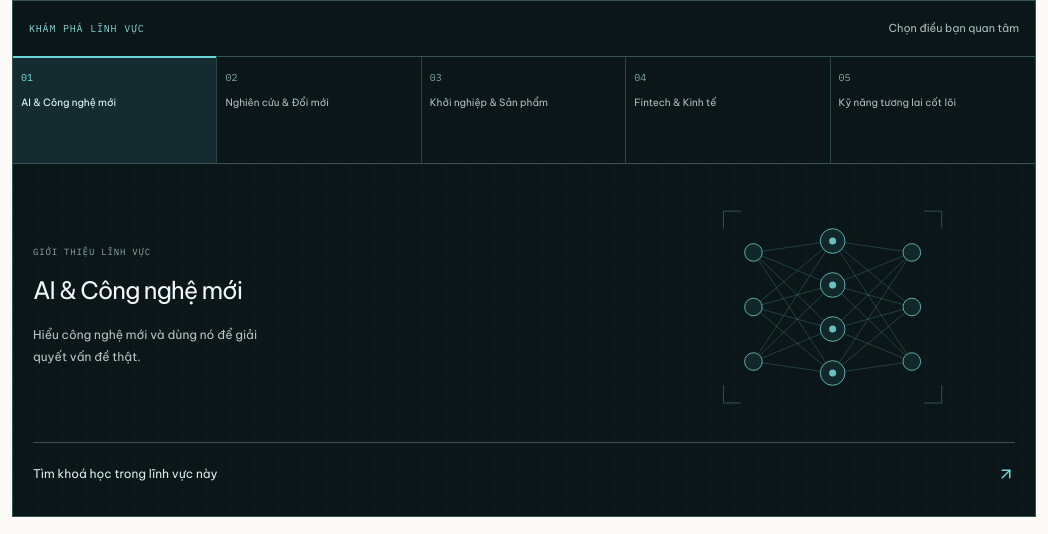
Academy field explorer › selects all five canonical fields without navigating in vi
Click the button "01 AI & Công nghệ mới".
click(115, 110)  # box [13,57,217,164]
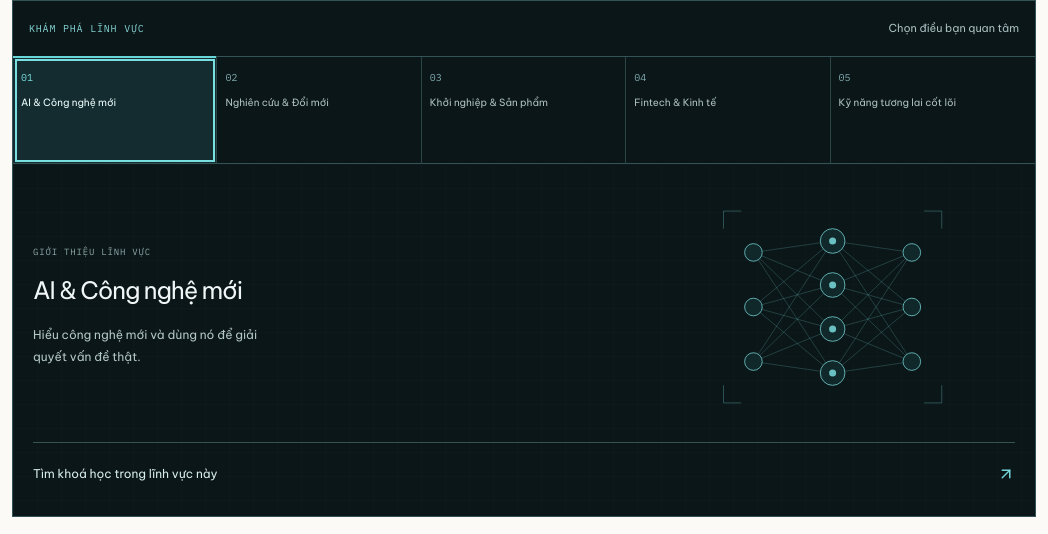
Expected: the heading "AI & Công nghệ mới" is shown, [33,275,242,305]
Expected: the text "Hiểu công nghệ mới và dùng nó để giải quyết vấn đề thật." is shown, [33,324,284,368]
Click the button "02 Nghiên cứu & Đổi mới".
click(320, 110)  # box [217,57,422,164]
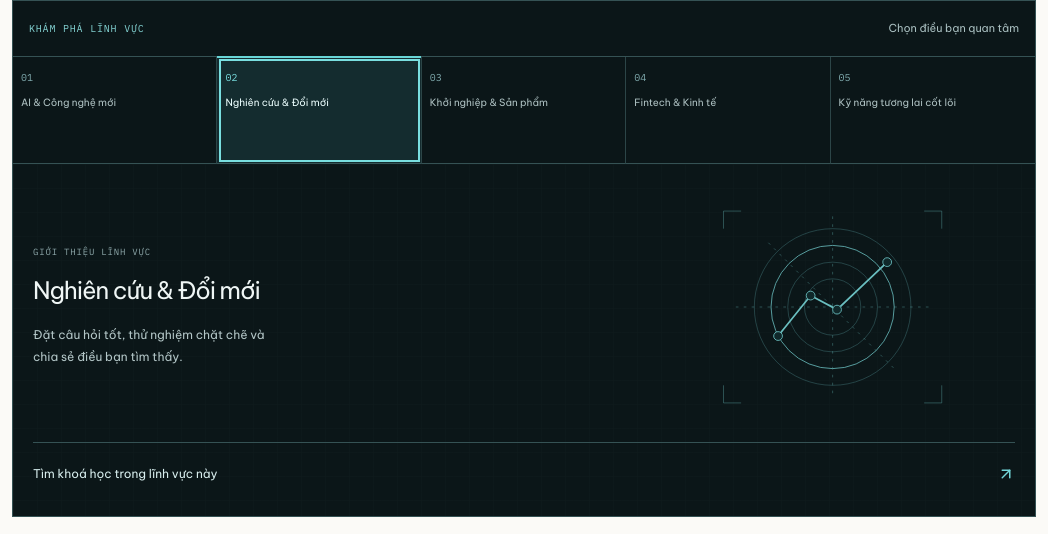
Expected: the heading "Nghiên cứu & Đổi mới" is shown, [33,275,260,305]
Expected: the text "Đặt câu hỏi tốt, thử nghiệm chặt chẽ và chia sẻ điều bạn tìm thấy." is shown, [33,324,284,368]
Click the button "03 Khởi nghiệp & Sản phẩm".
click(524, 110)  # box [422,57,626,164]
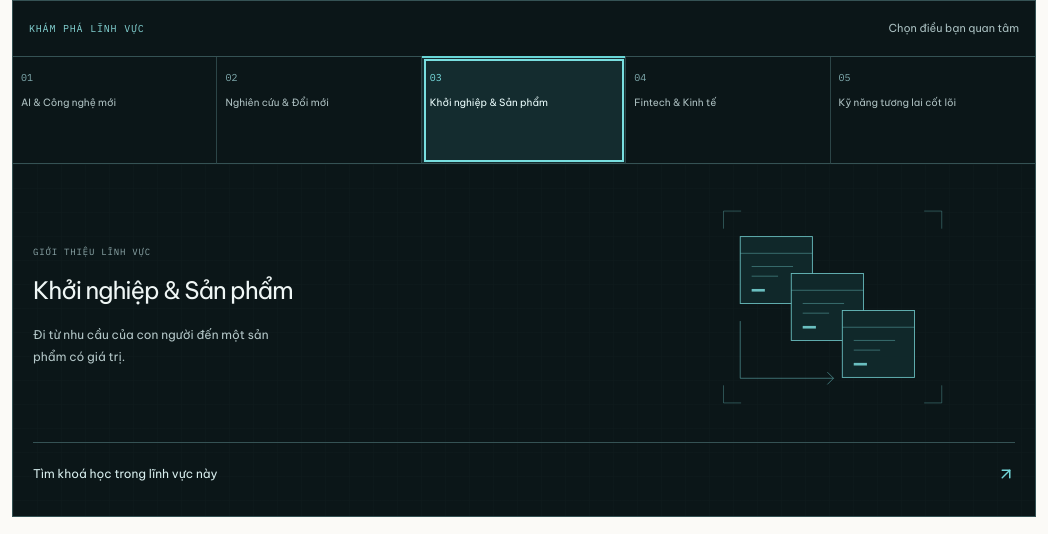
Expected: the heading "Khởi nghiệp & Sản phẩm" is shown, [33,275,292,305]
Expected: the text "Đi từ nhu cầu của con người đến một sản phẩm có giá trị." is shown, [33,324,284,368]
Click the button "04 Fintech & Kinh tế".
click(728, 110)  # box [626,57,831,164]
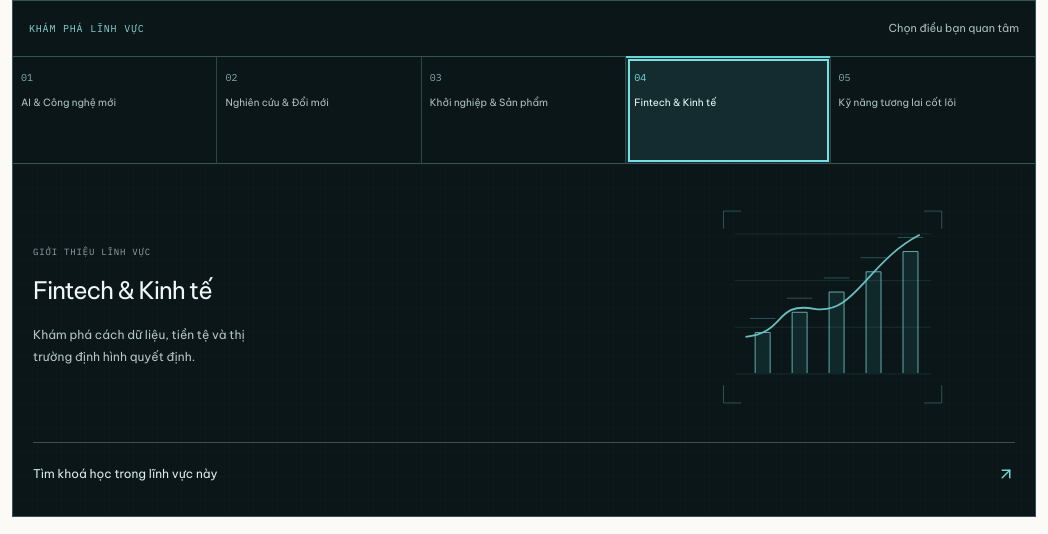
Expected: the heading "Fintech & Kinh tế" is shown, [33,275,212,305]
Expected: the text "Khám phá cách dữ liệu, tiền tệ và thị trường định hình quyết định." is shown, [33,327,245,364]
Click the button "05 Kỹ năng tương lai cốt lõi".
click(933, 110)  # box [831,57,1035,164]
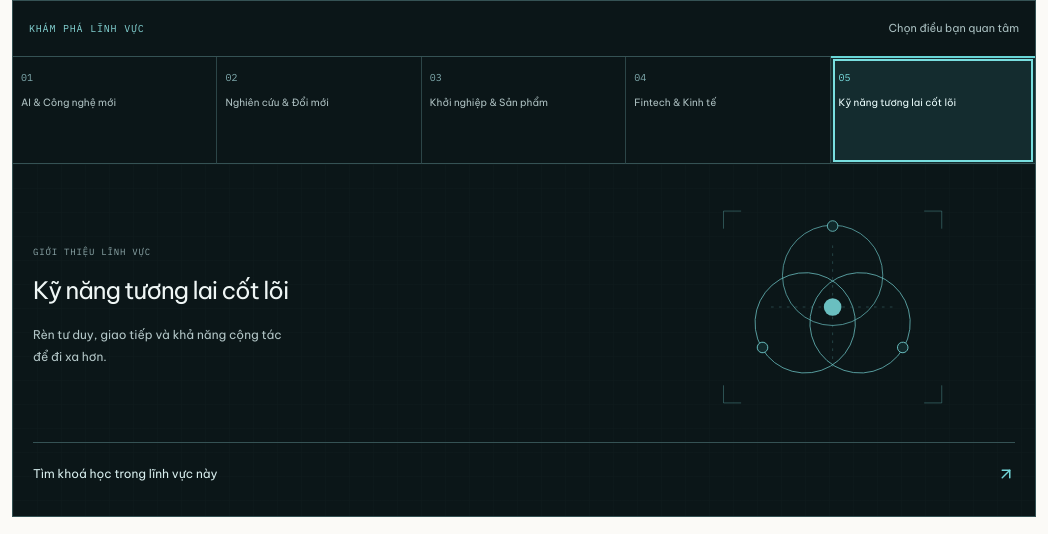
Expected: the heading "Kỹ năng tương lai cốt lõi" is shown, [33,275,288,305]
Expected: the text "Rèn tư duy, giao tiếp và khả năng cộng tác để đi xa hơn." is shown, [33,324,284,368]
